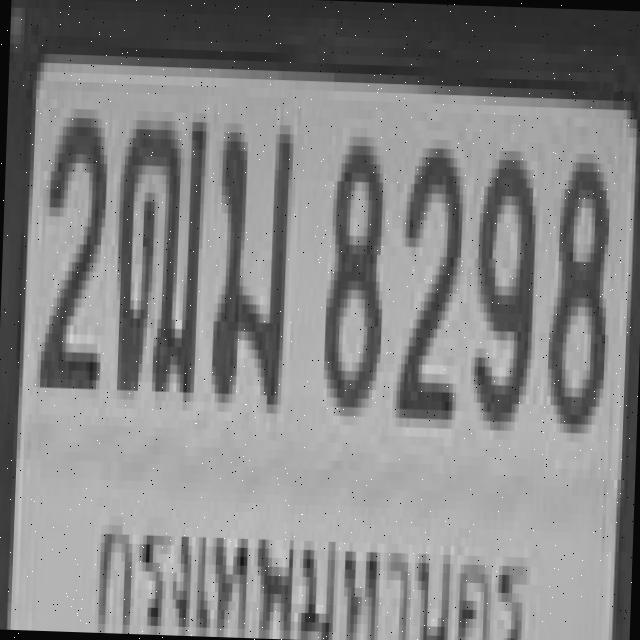2: (38, 110, 111, 392), (395, 148, 464, 420)
27ThorPhuThao: (109, 110, 207, 400)
42MorMa: (210, 113, 294, 404)
8: (321, 137, 386, 418), (546, 158, 611, 430)
9: (472, 148, 538, 429)
Bangkok: (80, 487, 532, 640)
